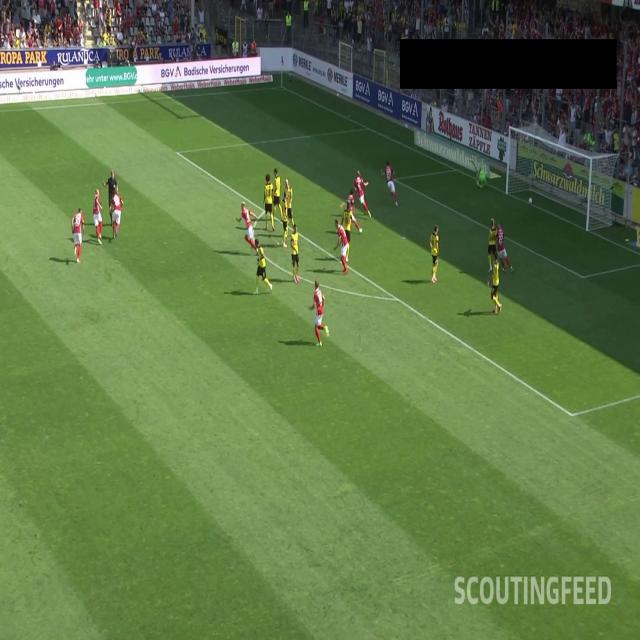ball: (526, 194, 535, 207)
player: (307, 277, 331, 348), (235, 199, 261, 258), (253, 236, 273, 296), (332, 215, 351, 276), (342, 185, 362, 237), (352, 168, 372, 220), (379, 158, 399, 208), (261, 170, 277, 232), (487, 253, 502, 314), (338, 202, 353, 262), (496, 221, 513, 273), (108, 187, 124, 242), (71, 206, 86, 264), (90, 186, 104, 246), (282, 170, 296, 230), (485, 216, 499, 273), (428, 222, 440, 284), (469, 161, 492, 193), (273, 167, 284, 223), (290, 226, 300, 287), (282, 189, 290, 249)
referee: (101, 167, 119, 228)
